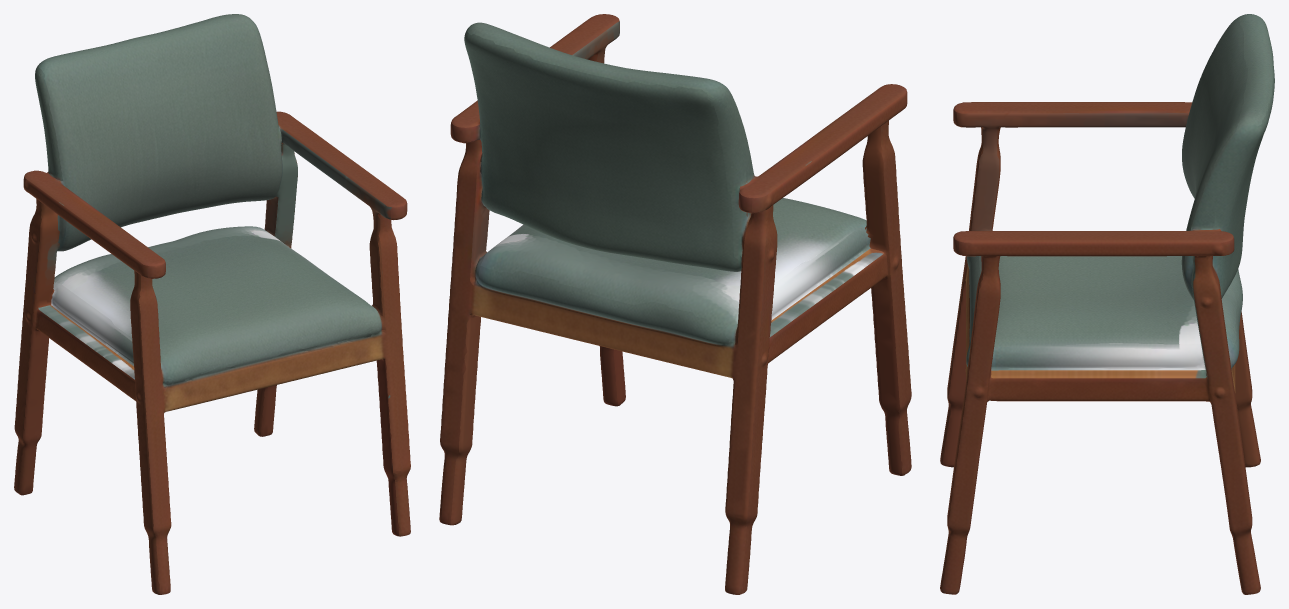
File: chair__chair#2.glb
The picture shows the model from 3 angles, left to right: view 1: azimuth 30°, elevation 25°; view 2: azimuth 150°, elevation 25°; view 3: azimuth 270°, elevation 25°; orthographic projection. The views are drawn at different scales.
Parts seen in each view (by area): view 1: tmpiu7k_bne.ply; view 2: tmpiu7k_bne.ply; view 3: tmpiu7k_bne.ply.
Boxes of the visible parts, x1=… form: tmpiu7k_bne.ply: x1=14, y1=14, x2=410, y2=594; tmpiu7k_bne.ply: x1=439, y1=14, x2=911, y2=594; tmpiu7k_bne.ply: x1=940, y1=14, x2=1274, y2=594.
Bounding box in the file's own units: 1.31 × 1.99 × 1.3.
Materials: 1 (1 with a texture image).
